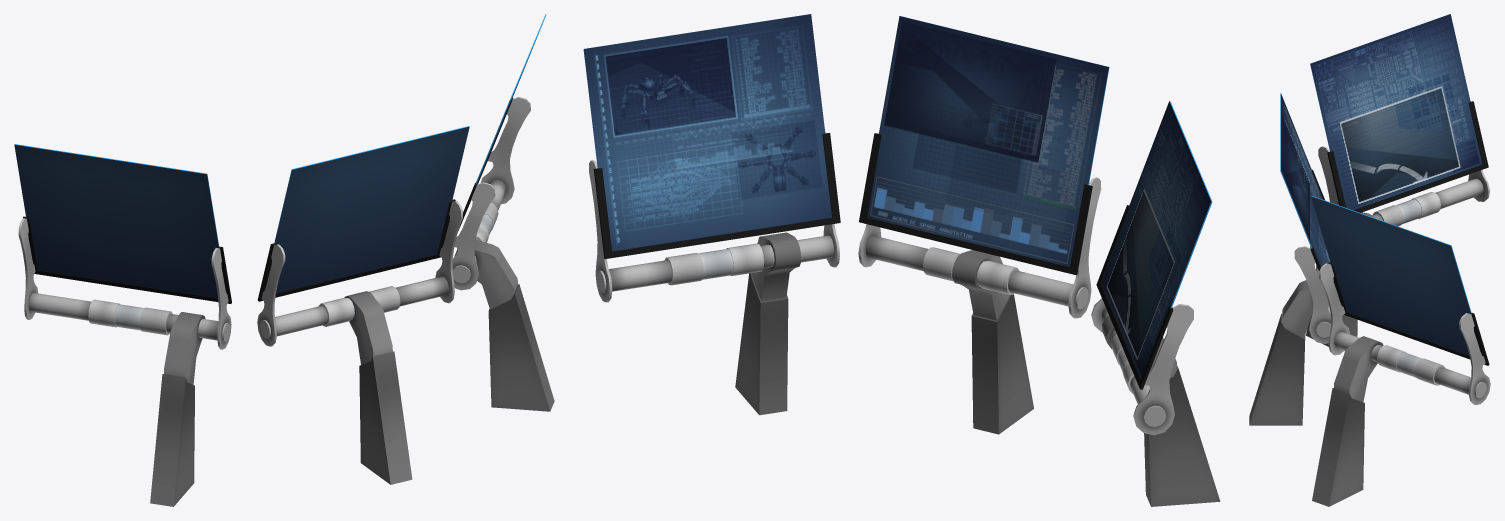
File: Monitors.FBX
3 views of the same model, side by side, from view 1: azimuth 30°, elevation 25°; view 2: azimuth 150°, elevation 25°; view 3: azimuth 270°, elevation 25° (orthographic). The views are drawn at different scales.
Parts seen in each view (by area): view 1: Screem_Right, Screen_Middle, Monitor_Stand_Middle, Monitor_Stand_Right, Monitor_Stand_Left; view 2: Screen_ Left, Screen_Middle, Monitor_Stand_Middle, Monitor_Stand_Left, Screem_Right, Monitor_Stand_Right; view 3: Screem_Right, Screen_ Left, Monitor_Stand_Left, Monitor_Stand_Middle, Monitor_Stand_Right, Screen_Middle.
Part boxes in pixels (<box>): Screem_Right: <box>14,144,219,297</box>; Screen_Middle: <box>274,126,469,293</box>; Monitor_Stand_Middle: <box>257,199,462,484</box>; Monitor_Stand_Right: <box>18,216,231,506</box>; Monitor_Stand_Left: <box>452,96,554,411</box>; Screen_ Left: <box>583,14,831,251</box>; Screen_Middle: <box>867,16,1109,266</box>; Monitor_Stand_Middle: <box>858,133,1101,434</box>; Monitor_Stand_Left: <box>589,130,840,415</box>; Screem_Right: <box>1101,101,1212,378</box>; Monitor_Stand_Right: <box>1091,205,1220,506</box>; Screem_Right: <box>1310,14,1482,210</box>; Screen_ Left: <box>1311,195,1471,355</box>; Monitor_Stand_Left: <box>1312,262,1490,506</box>; Monitor_Stand_Middle: <box>1249,169,1331,425</box>; Monitor_Stand_Right: <box>1306,101,1489,351</box>; Screen_Middle: <box>1280,93,1330,267</box>.
Bounding box in the file's own units: 184 × 106 × 80.83.
2 materials, 2 textured.
